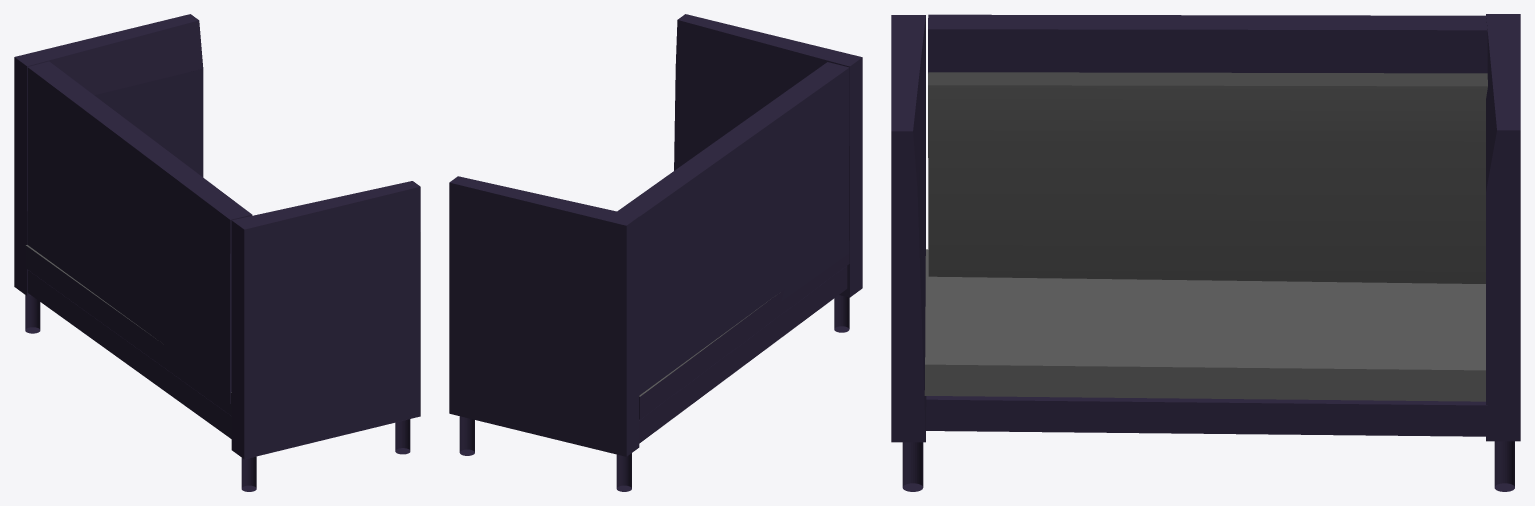
Rendered from library_sofa.glb.
3 views of the same model, side by side, from view 1: azimuth 30°, elevation 25°; view 2: azimuth 150°, elevation 25°; view 3: azimuth 270°, elevation 25° (orthographic). The views are drawn at different scales.
Visible parts, largest first — view 1: library soaf; view 2: library soaf; view 3: library soaf.
Boxes of the visible parts, bbox=[...] form: library soaf: bbox=[14, 14, 420, 491]; library soaf: bbox=[449, 14, 862, 491]; library soaf: bbox=[891, 14, 1520, 491].
Bounding box in the file's own units: 1.15 × 1.64 × 2.57.
